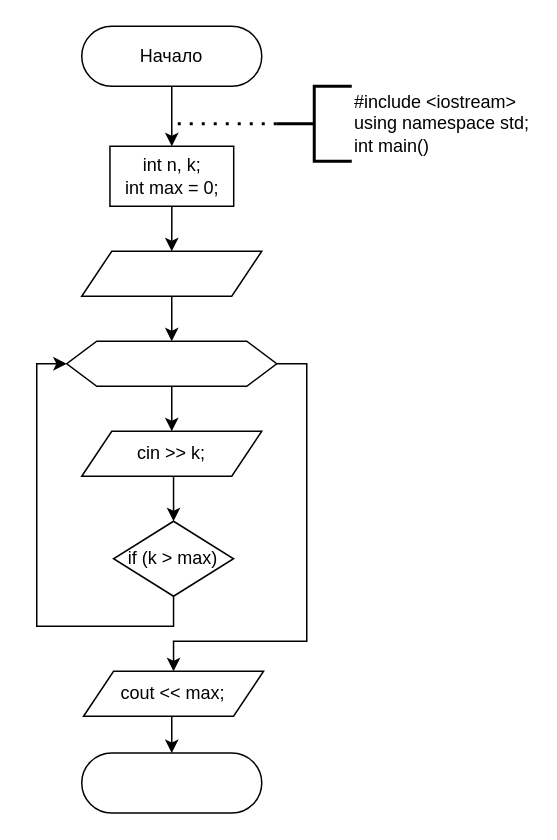
This 557x840 diagram has some shape labels left out. The box of each missing label's shape, as (x1, y1, x2, y2) in pixels:
cin >> n;: (80, 250, 262, 296)
for (int i=0; i < n;i++): (65, 340, 277, 386)
Конец: (80, 752, 262, 813)
